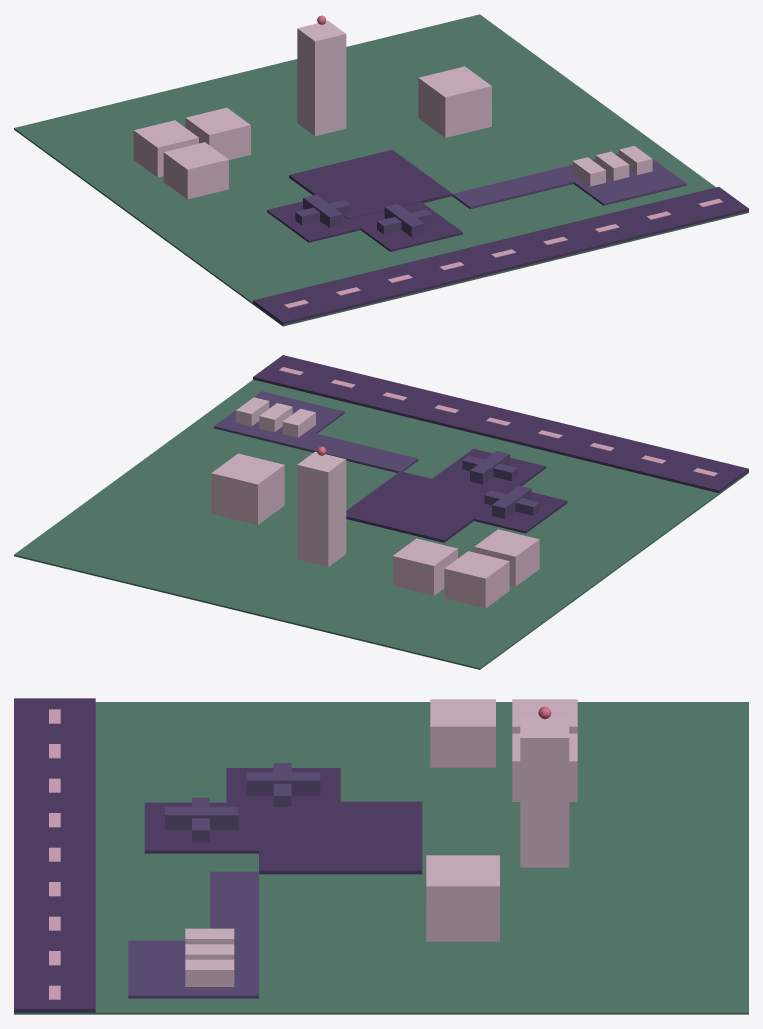
File: stage_10.glb
3 views of the same model, one above another, from view 1: azimuth 30°, elevation 25°; view 2: azimuth 150°, elevation 25°; view 3: azimuth 270°, elevation 25° (orthographic). The views are drawn at different scales.
Visible parts, largest first — view 1: geometry_0; view 2: geometry_0; view 3: geometry_0.
Boxes of the visible parts, x1,y1,x2,y2 form: geometry_0: (14,14,748,326); geometry_0: (14,355,748,669); geometry_0: (14,698,748,1014).
Size of the model in its own units: 9 by 2.06 by 9.
